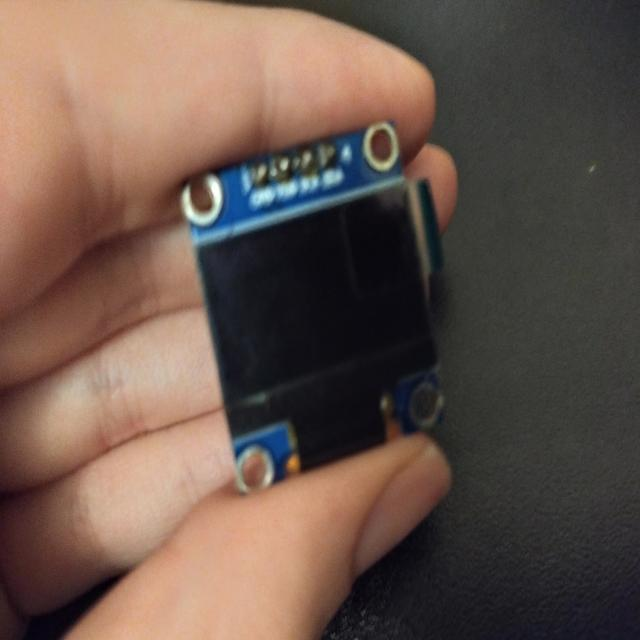oled: (179, 114, 458, 494)
